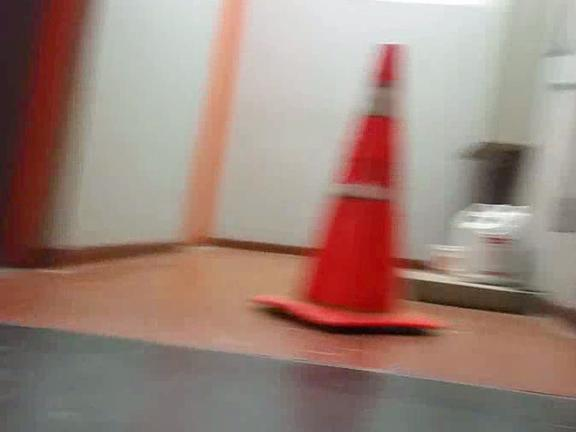0 cone: (248, 43, 440, 328)
